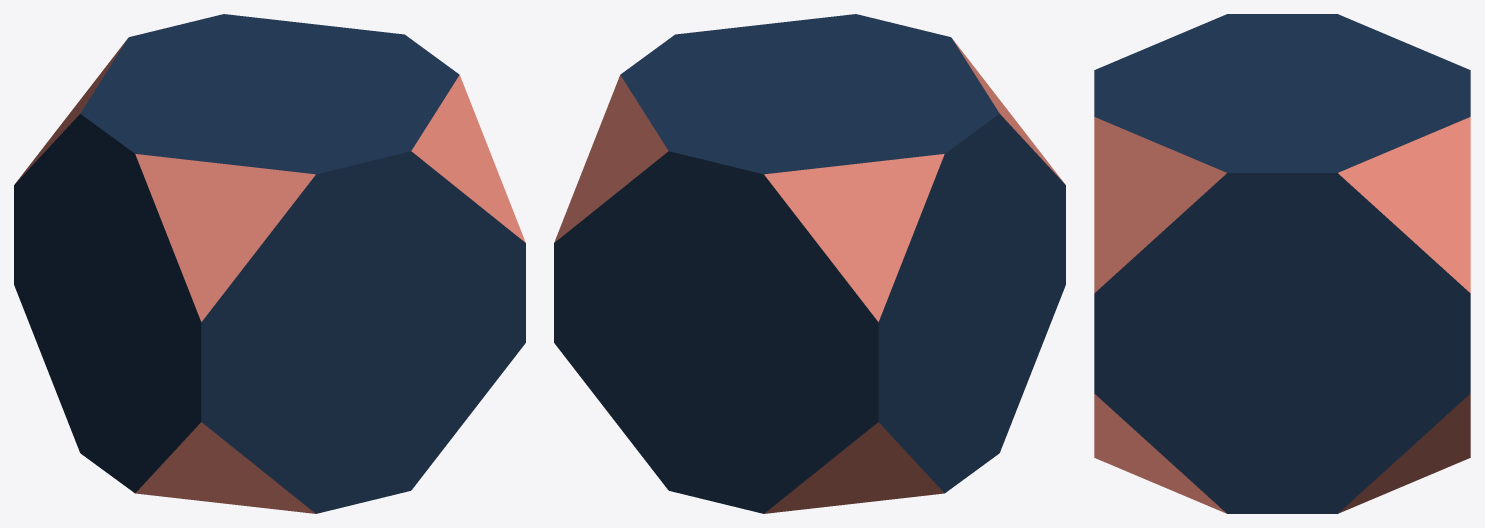
3 renders of one model, left to right at view 1: azimuth 30°, elevation 25°; view 2: azimuth 150°, elevation 25°; view 3: azimuth 270°, elevation 25°, orthographic.
Parts seen in each view (by area): view 1: polyhedronisme-tC; view 2: polyhedronisme-tC; view 3: polyhedronisme-tC.
Part boxes in pixels (box(x1,y1,x2,y2)): polyhedronisme-tC: box(14, 14, 525, 513); polyhedronisme-tC: box(554, 14, 1065, 513); polyhedronisme-tC: box(1094, 14, 1470, 513).
Bounding box in the file's own units: 138 × 138 × 138.
